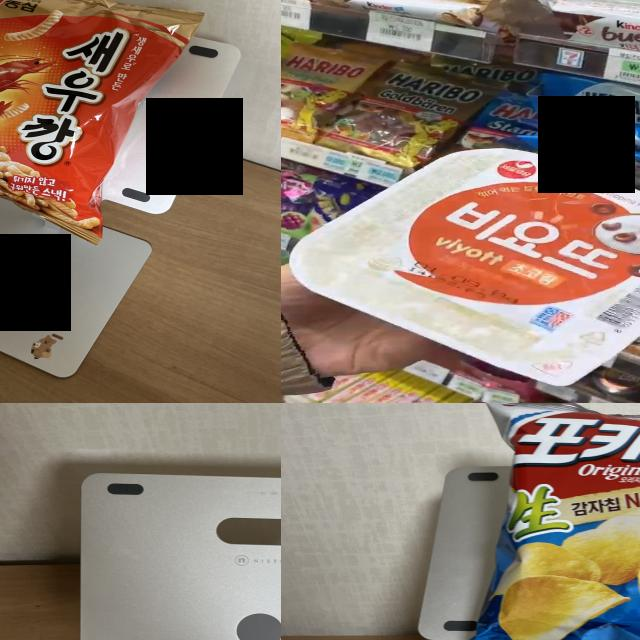bYott: (284, 146, 640, 390)
pokaChip: (480, 403, 640, 640)
shrimpGGang: (0, 0, 189, 235)
